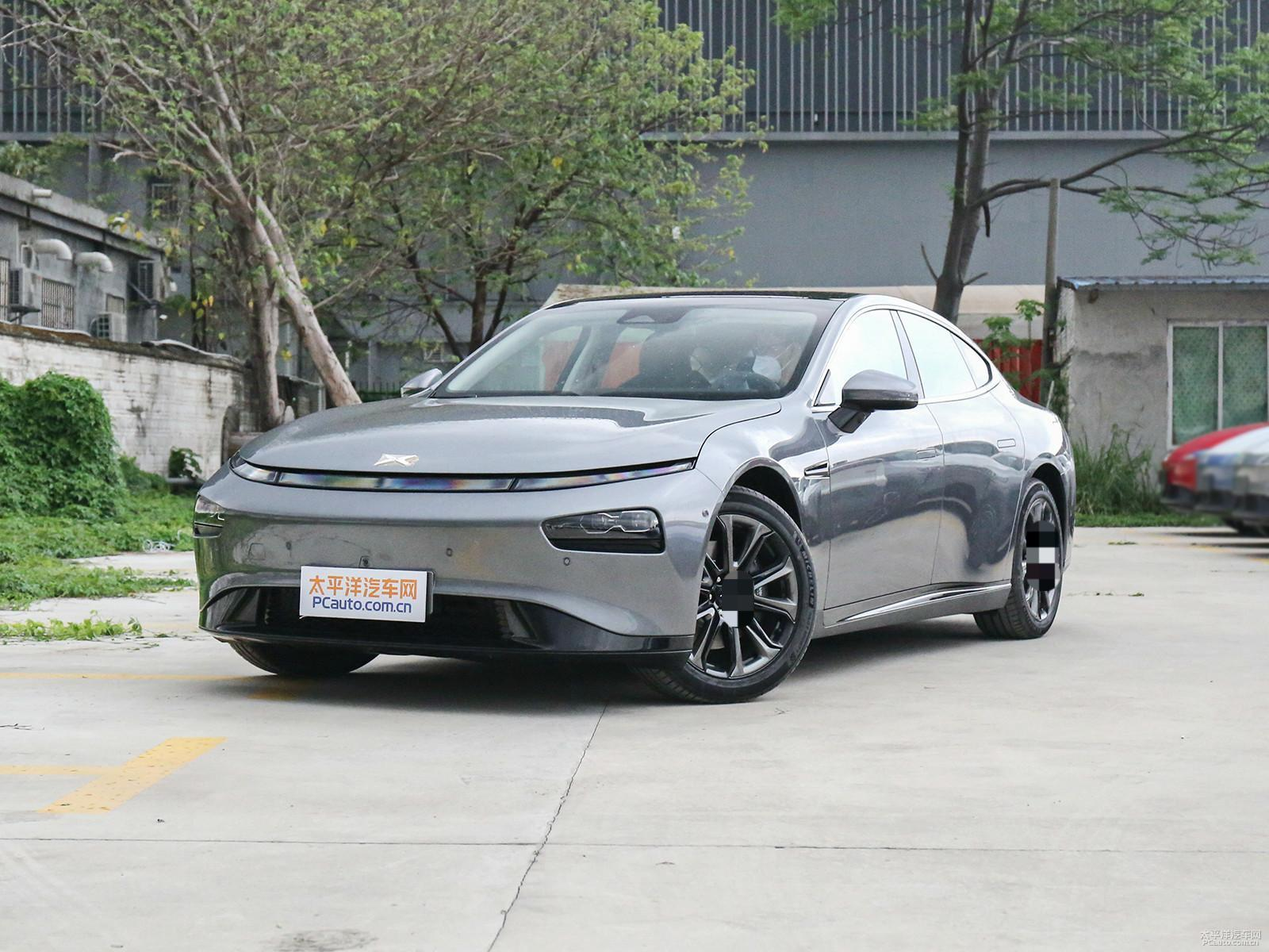XPeng Motors: (374, 453, 417, 466)
